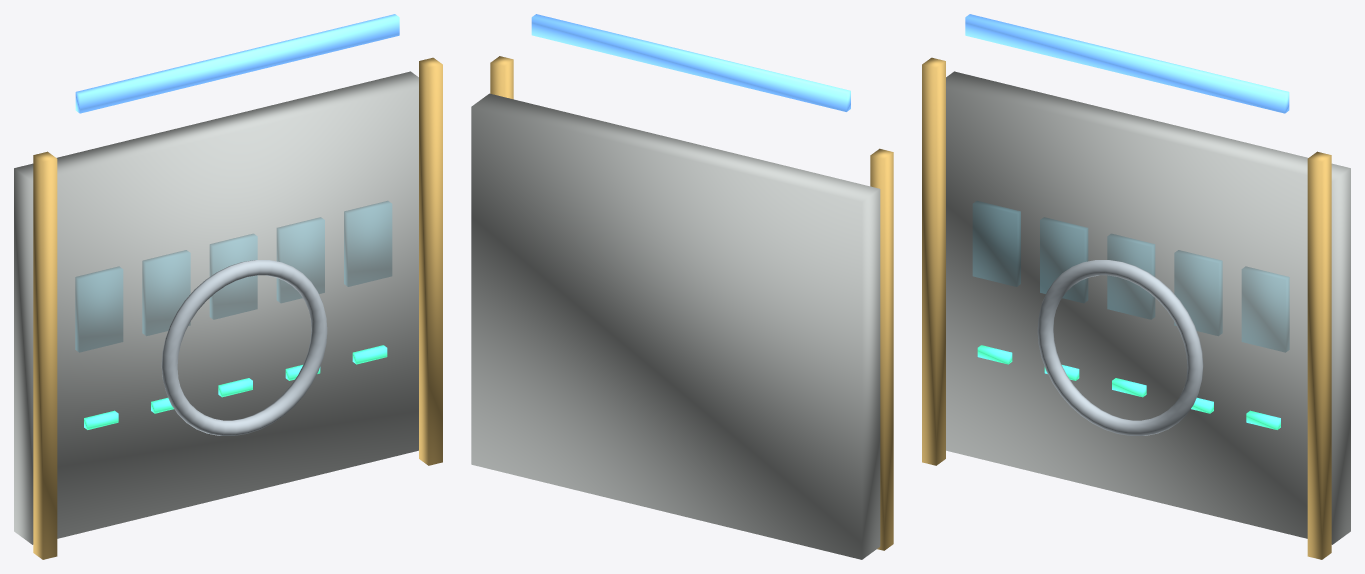
The model's file is 03_L88_HabitatSectorA_Crew.glb.
3 views of the same model, side by side, from view 1: azimuth 30°, elevation 25°; view 2: azimuth 150°, elevation 25°; view 3: azimuth 330°, elevation 25° (orthographic).
Parts seen in each view (by area): view 1: L87_Crew_Part_0000, L87_Crew_Part_0001, L87_Crew_Part_0002, L87_Crew_Part_0004, L87_Crew_Part_0005, L87_Crew_Part_0003; view 2: L87_Crew_Part_0000, L87_Crew_Part_0005, L87_Crew_Part_0001; view 3: L87_Crew_Part_0000, L87_Crew_Part_0001, L87_Crew_Part_0002, L87_Crew_Part_0004, L87_Crew_Part_0005, L87_Crew_Part_0003.
Part boxes in pixels (x1,y1,x2,y2): L87_Crew_Part_0000: (14, 71, 418, 544); L87_Crew_Part_0001: (33, 57, 442, 559); L87_Crew_Part_0002: (75, 201, 391, 352); L87_Crew_Part_0004: (161, 260, 327, 435); L87_Crew_Part_0005: (75, 14, 399, 113); L87_Crew_Part_0003: (84, 345, 387, 429); L87_Crew_Part_0000: (471, 93, 880, 559); L87_Crew_Part_0005: (531, 14, 850, 111); L87_Crew_Part_0001: (490, 56, 893, 550); L87_Crew_Part_0000: (946, 71, 1350, 544); L87_Crew_Part_0001: (922, 57, 1331, 559); L87_Crew_Part_0002: (973, 201, 1289, 352); L87_Crew_Part_0004: (1037, 260, 1203, 435); L87_Crew_Part_0005: (965, 14, 1289, 113); L87_Crew_Part_0003: (977, 345, 1280, 429).
Bounding box in the file's own units: 3.63 × 3.92 × 0.57.
